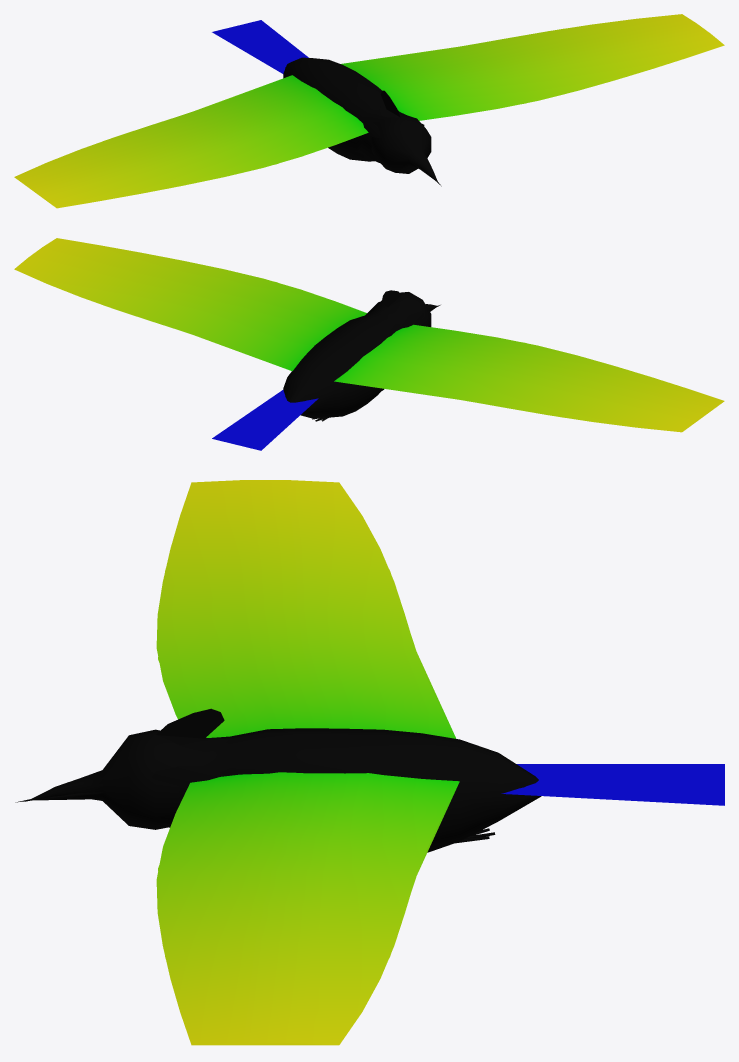
The model's file is lark.glb.
3 renders of one model, top to bottom at view 1: azimuth 30°, elevation 25°; view 2: azimuth 150°, elevation 25°; view 3: azimuth 270°, elevation 25°, orthographic. The views are drawn at different scales.
Visible parts, largest first — view 1: fly0, fly2, fly1; view 2: fly0, fly2, fly1; view 3: fly0, fly2, fly1.
Part boxes in pixels (left/top/right/bottom): fly0: left=14, top=14, right=724, bottom=208; fly2: left=22, top=20, right=453, bottom=202; fly1: left=16, top=28, right=563, bottom=205; fly0: left=14, top=238, right=724, bottom=432; fly2: left=199, top=305, right=721, bottom=450; fly1: left=213, top=282, right=722, bottom=428; fly0: left=30, top=480, right=541, bottom=1045; fly2: left=15, top=653, right=724, bottom=1045; fly1: left=24, top=569, right=539, bottom=1045.
Size of the model in its own units: 0.32 by 0.0393 by 0.1708.
